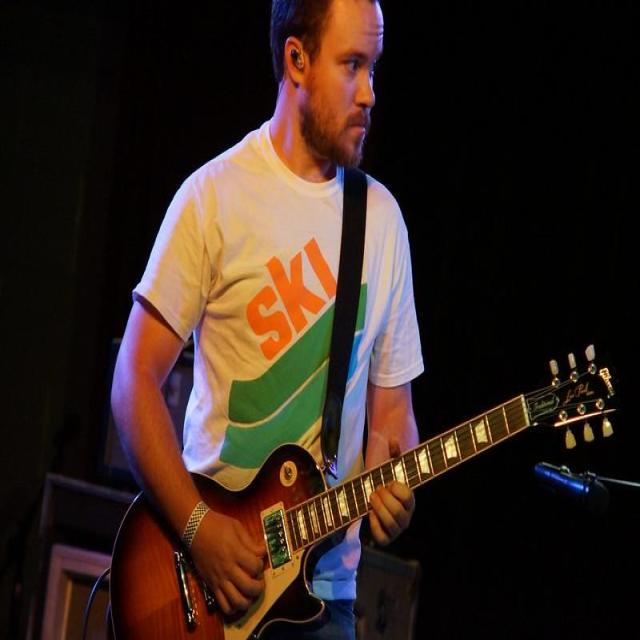guitar: (110, 348, 616, 639)
